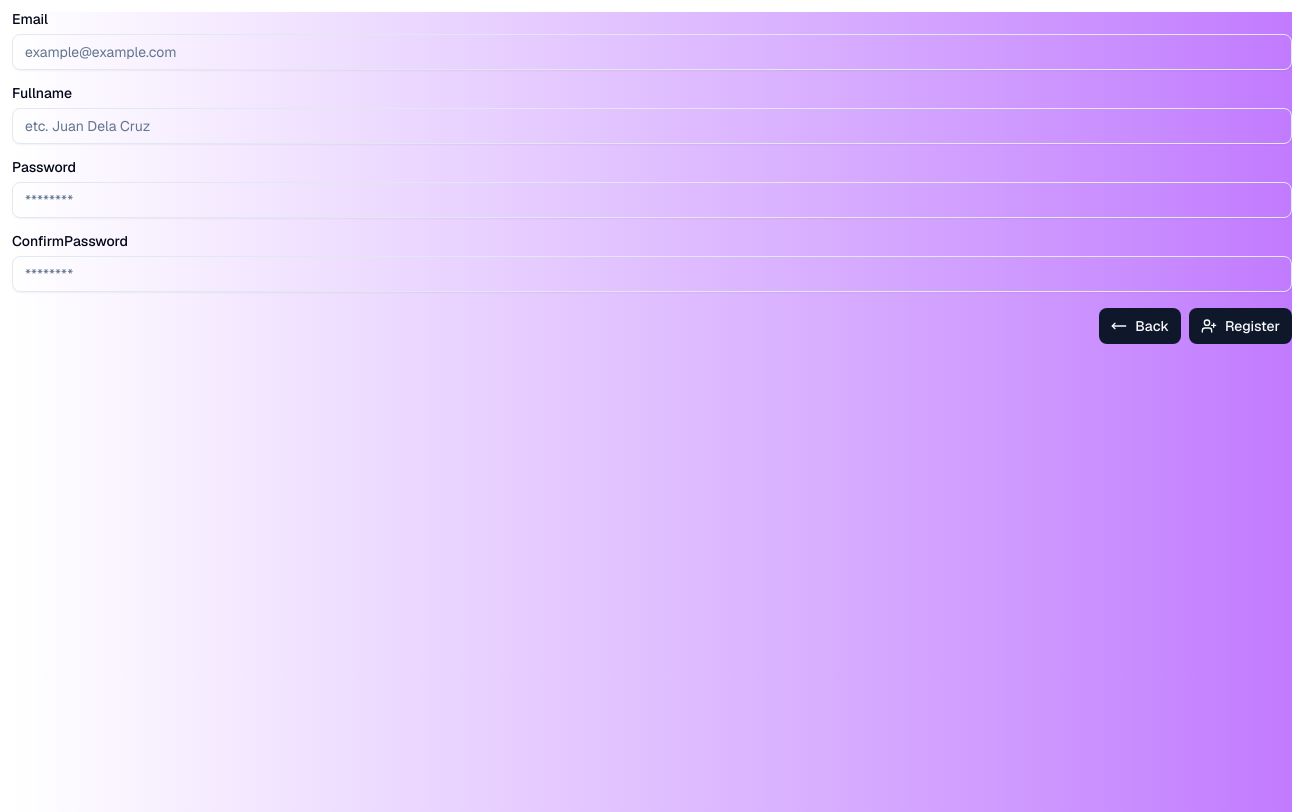
AuthRegisterForm › Validation › shows error message for empty fullname field
What coordinates should you click on to do the following:
click the button "Register"
I would click on:
 (1240, 326)
Its box is x1=1189 y1=308 x2=1292 y2=344.
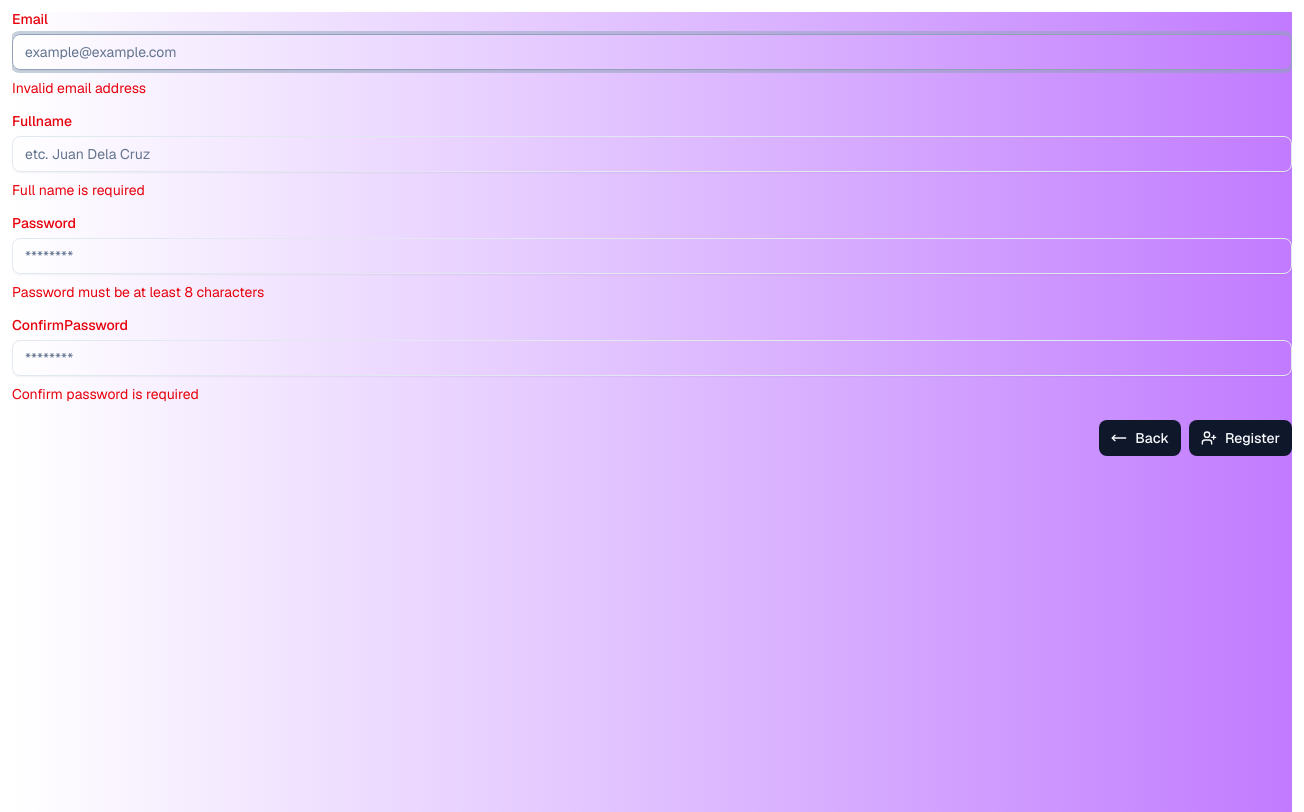
Now the text "Full name is required" is shown, box x1=12 y1=181 x2=145 y2=199
